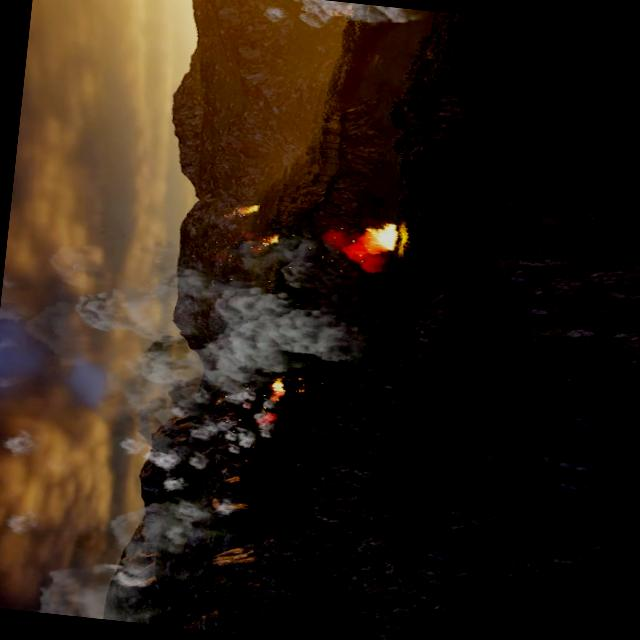fire: (349, 217, 399, 264), (361, 220, 401, 252), (233, 198, 266, 216), (268, 376, 286, 400), (267, 234, 282, 243)
smoke: (0, 191, 374, 633), (256, 0, 414, 37)
